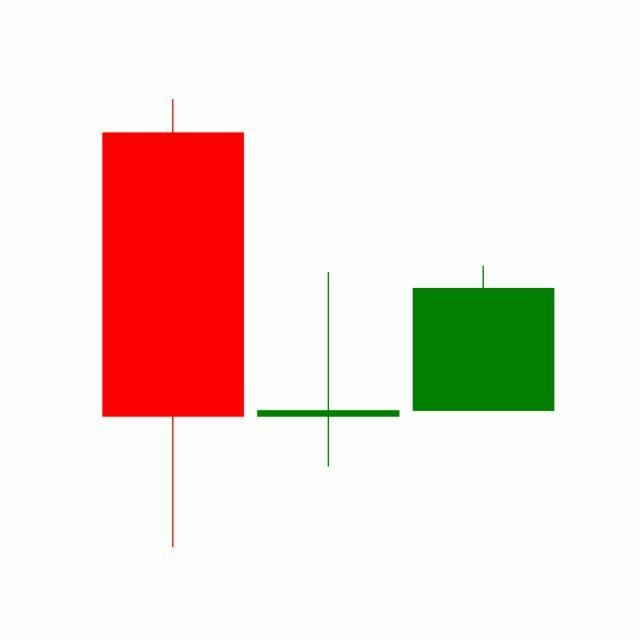Spinning Top: (250, 270, 407, 470)
